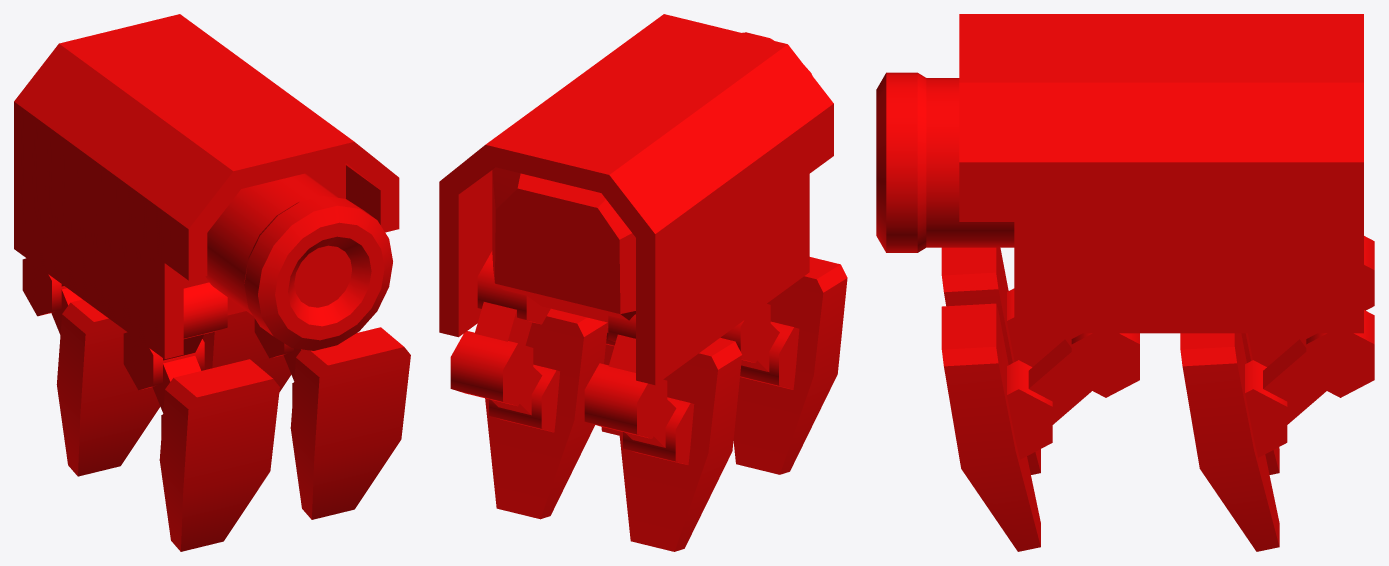
Rendered from mech_test_subst2.FBX.
3 renders of one model, left to right at view 1: azimuth 30°, elevation 25°; view 2: azimuth 150°, elevation 25°; view 3: azimuth 270°, elevation 25°, orthographic. The views are drawn at different scales.
Visible parts, largest first — view 1: Box003; view 2: Box003; view 3: Box003.
Part boxes in pixels (box(x1,y1,x2,y2)): Box003: box(14, 14, 410, 551); Box003: box(439, 14, 847, 551); Box003: box(876, 14, 1374, 551).
Size of the model in its own units: 21.53 by 36.03 by 36.31.
